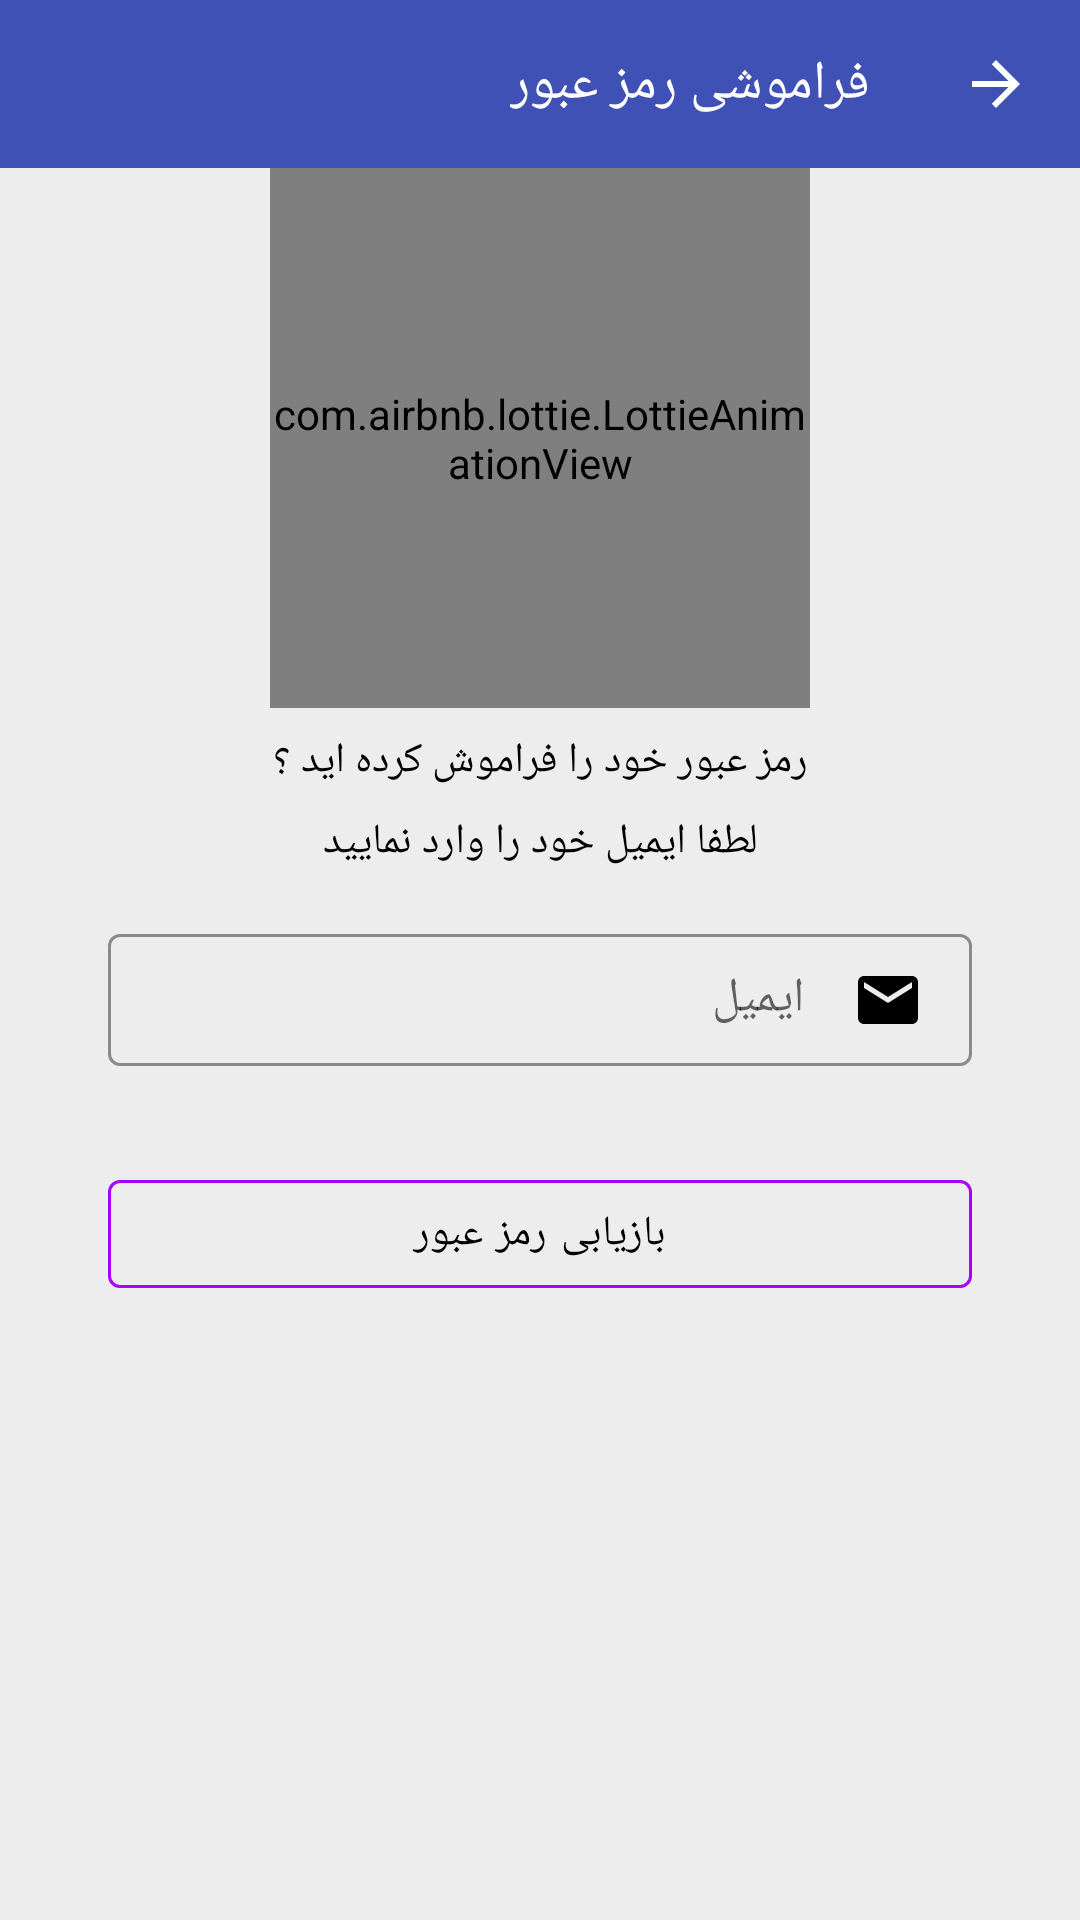

Named icons in this screenshot (1080x1920) and their centers, [x,y]:
arrow forward: [996,84]
